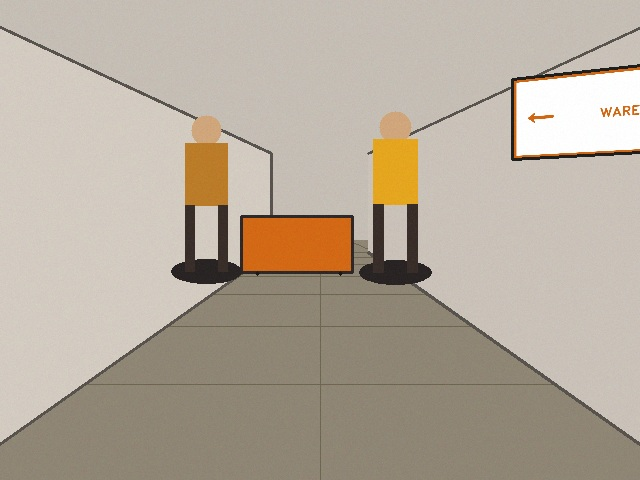cart: (241, 216, 352, 272)
directional_sign: (512, 58, 639, 159)
person: (363, 111, 427, 272), (175, 115, 237, 271)
